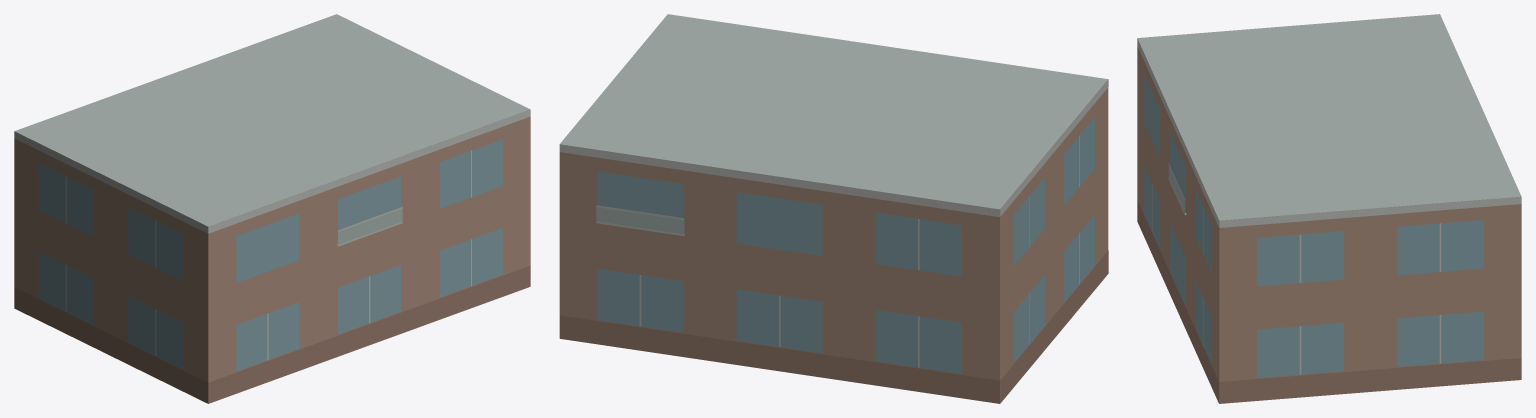
Rendered from survey-upis-33047051.glb.
The picture shows the model from 3 angles, left to right: view 1: azimuth 30°, elevation 25°; view 2: azimuth 150°, elevation 25°; view 3: azimuth 270°, elevation 25°; orthographic projection. The views are drawn at different scales.
Visible parts, largest first — view 1: survey-upis-33047051.tmp; view 2: survey-upis-33047051.tmp; view 3: survey-upis-33047051.tmp.
Boxes of the visible parts, x1,y1,x2,y2 form: survey-upis-33047051.tmp: (14, 14, 530, 403); survey-upis-33047051.tmp: (559, 14, 1108, 403); survey-upis-33047051.tmp: (1137, 14, 1521, 403).
Bounding box in the file's own units: 14.77 × 6.1 × 11.61.
